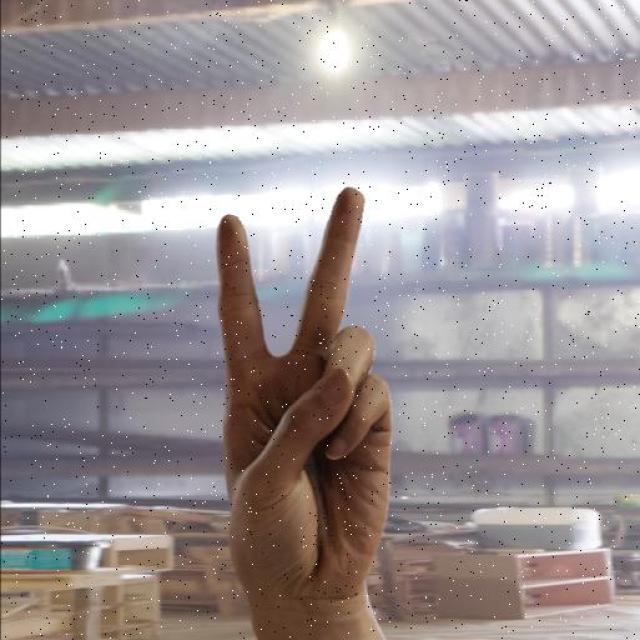V: (218, 182, 398, 610)
